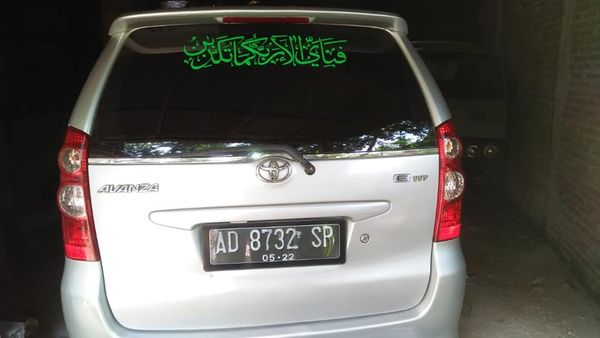plate: (208, 226, 347, 263)
